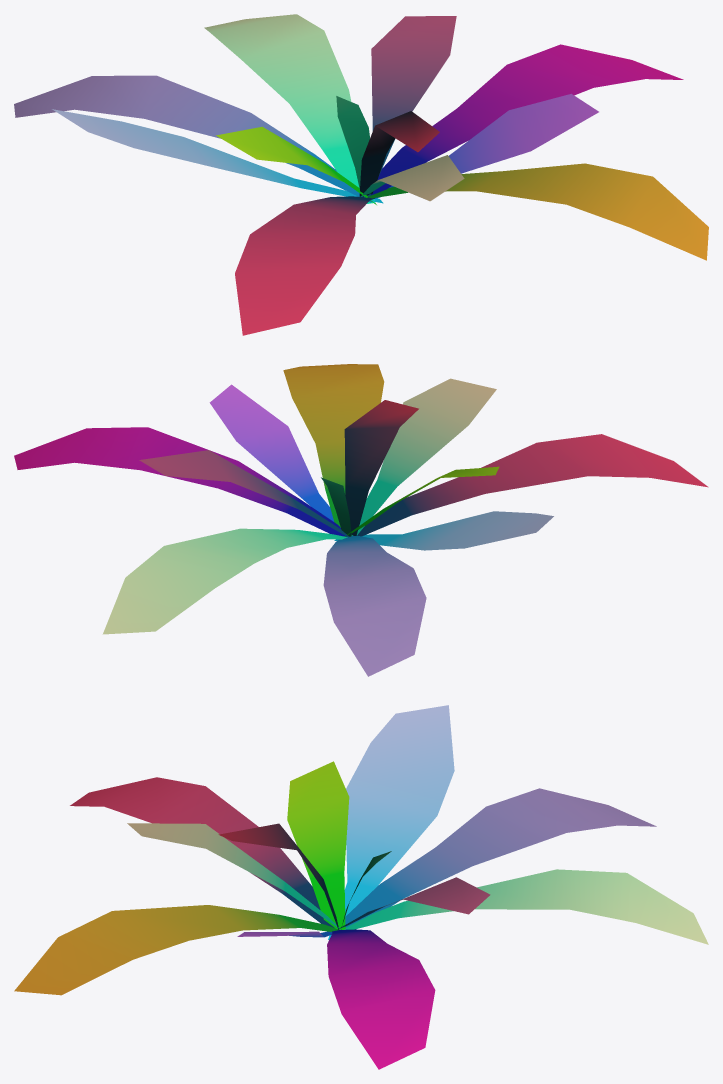
Rendered from Curbside_Weeds_ujzjfexja_Mid_ujzjfexja_VarJ_LOD1.fbx.
3 renders of one model, top to bottom at view 1: azimuth 30°, elevation 25°; view 2: azimuth 150°, elevation 25°; view 3: azimuth 270°, elevation 25°, orthographic. The views are drawn at different scales.
Visible parts, largest first — view 1: _wn6k_VarJ_LOD2; view 2: _wn6k_VarJ_LOD2; view 3: _wn6k_VarJ_LOD2.
Boxes of the visible parts, x1=… form: _wn6k_VarJ_LOD2: x1=14, y1=14, x2=708, y2=335; _wn6k_VarJ_LOD2: x1=14, y1=364, x2=708, y2=676; _wn6k_VarJ_LOD2: x1=14, y1=705, x2=708, y2=1069.
Bounding box in the file's own units: 28.59 × 5.3 × 30.13.
